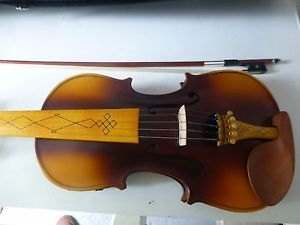Fiddle: (11, 50, 297, 210)
